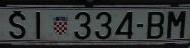-: (137, 23, 144, 28)
3: (73, 11, 91, 41), (95, 11, 112, 40)
4: (115, 11, 134, 40)
B: (147, 12, 165, 39)
I: (35, 11, 41, 40)
M: (167, 10, 185, 39)
S: (8, 13, 26, 40)
